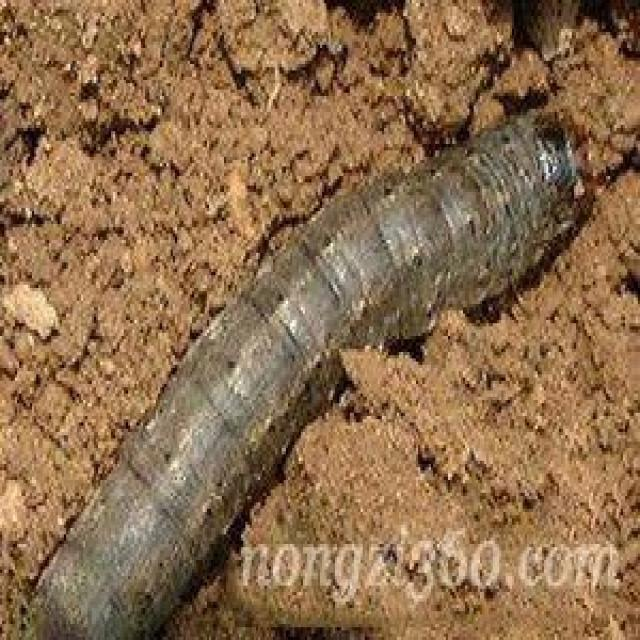black cutworm: (47, 99, 604, 640)
